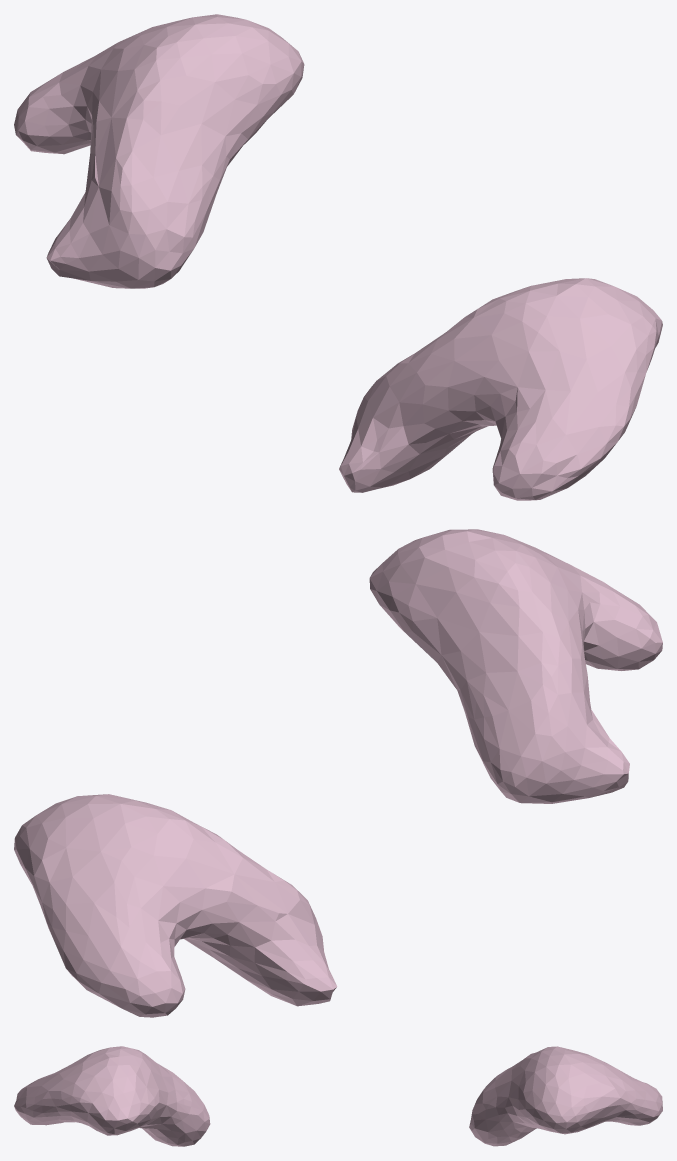
3 views of the same model, one above another, from view 1: azimuth 30°, elevation 25°; view 2: azimuth 150°, elevation 25°; view 3: azimuth 270°, elevation 25° (orthographic). The views are drawn at different scales.
Visible parts, largest first — view 1: 955.obj; view 2: 955.obj; view 3: 955.obj.
Part boxes in pixels (box(x1,y1,x2,y2)): 955.obj: box(14, 14, 662, 500); 955.obj: box(14, 529, 662, 1017); 955.obj: box(14, 1046, 662, 1146).
Bounding box in the file's own units: 1157 × 767 × 3647.
